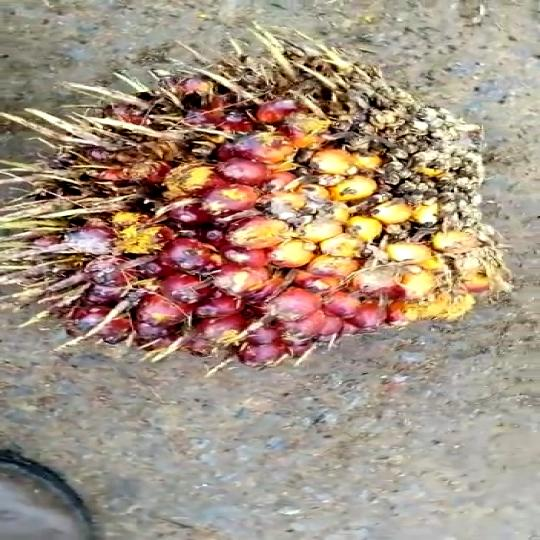masak: (0, 44, 512, 370)
